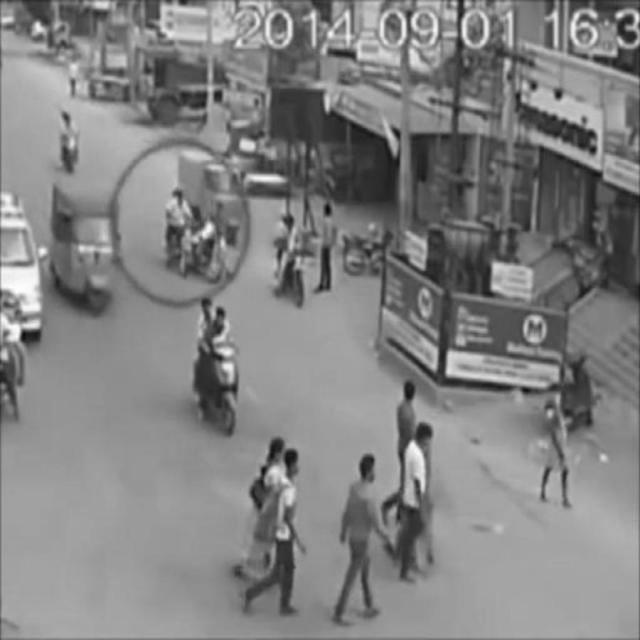accident: (164, 184, 231, 282)
person: (246, 446, 300, 614), (334, 452, 381, 626), (398, 424, 434, 582)
vehicle: (52, 179, 118, 311), (175, 147, 245, 243), (190, 298, 237, 439)
